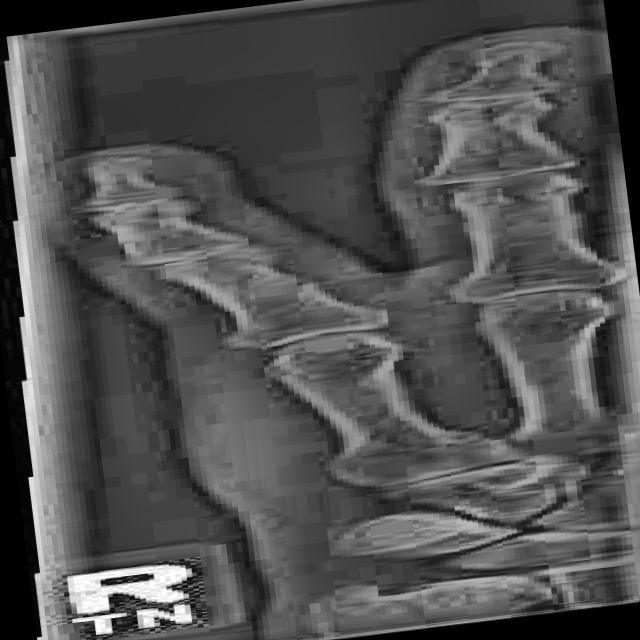fingers positive: (139, 241, 393, 341)
